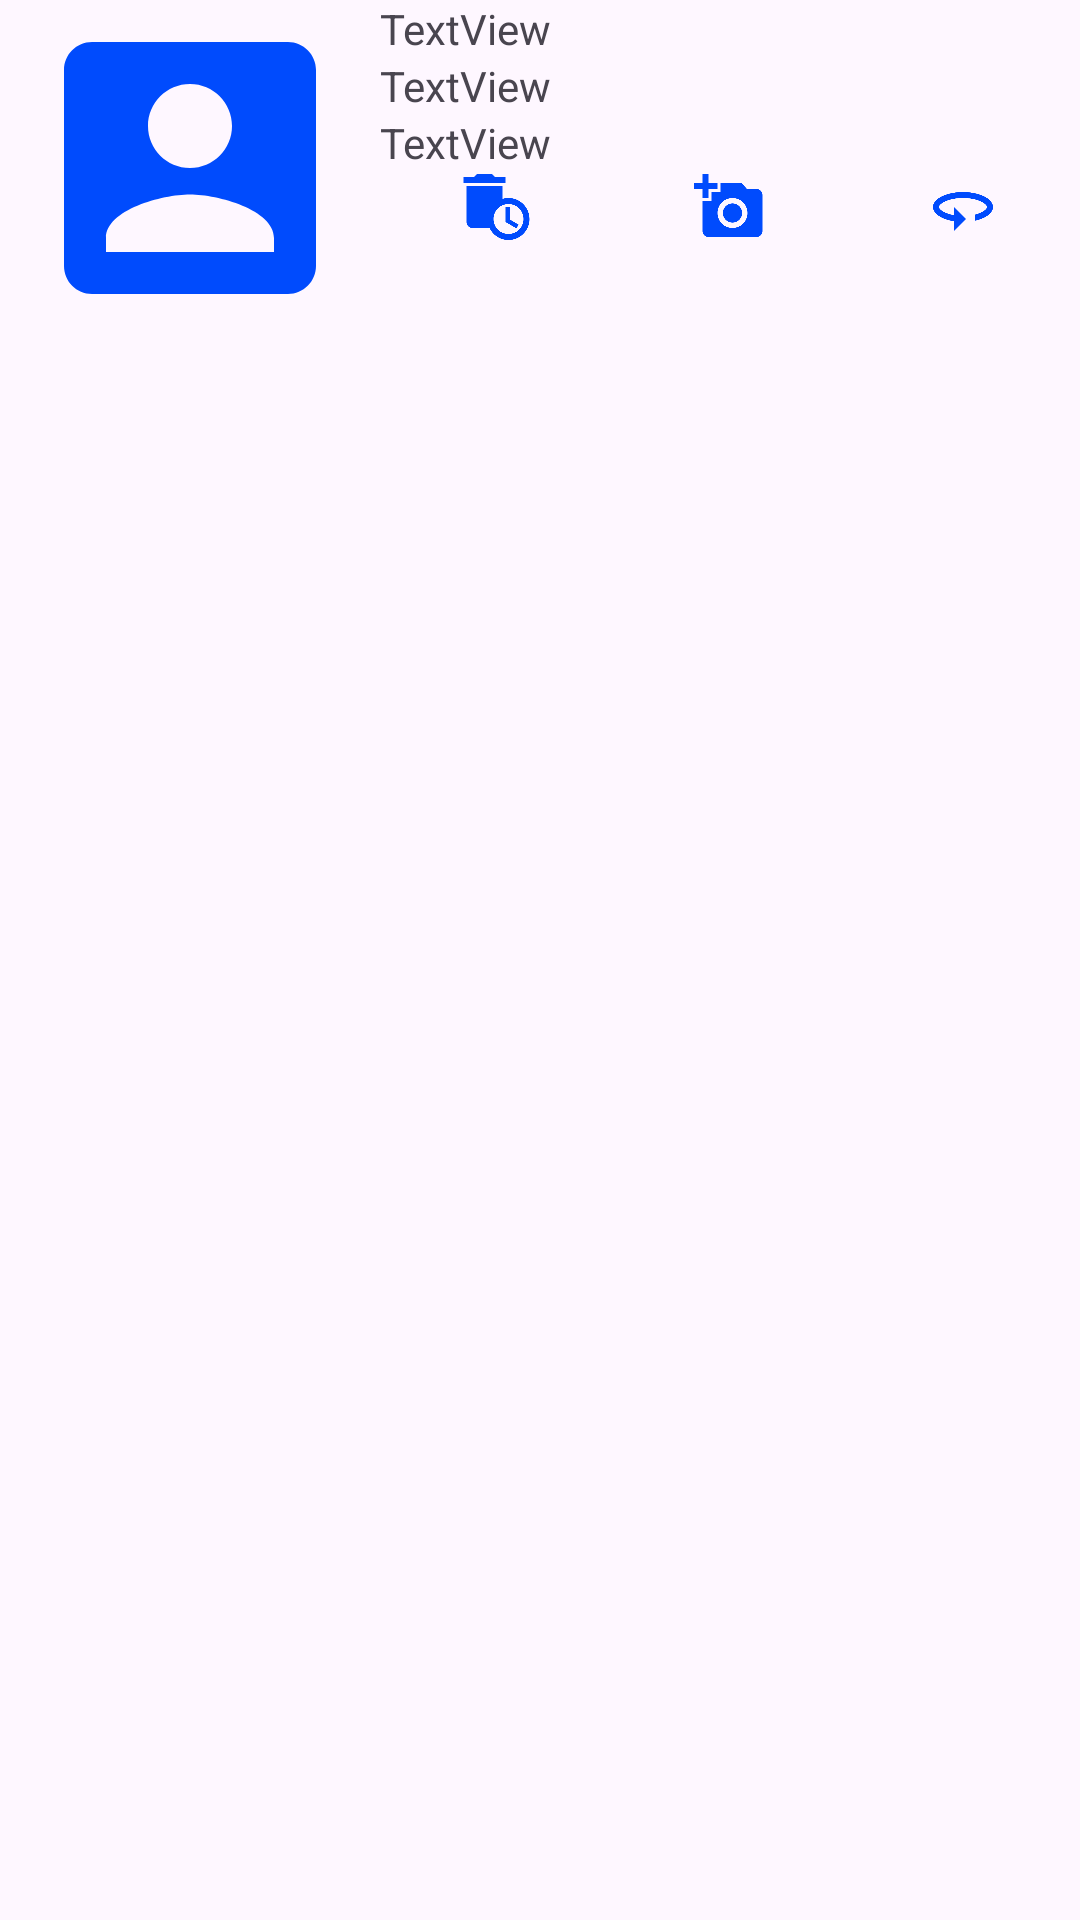

Locate icon controls on the screen. Image size 1080 x 1920, boxes as (x1, y1, x2, y2).
account box: (64, 42, 316, 294)
add photo: (694, 174, 763, 237)
auto delete: (463, 174, 530, 240)
